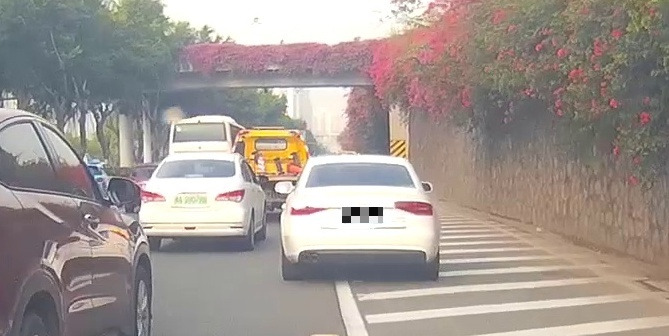L_light: (290, 202, 330, 216), (141, 190, 166, 203)
R_light: (394, 201, 433, 216), (215, 188, 245, 203)
T_light: (345, 163, 372, 166), (184, 174, 203, 178)
day-no: (138, 152, 248, 251)
night-left: (280, 154, 440, 281)
plate_1: (342, 207, 383, 223)
